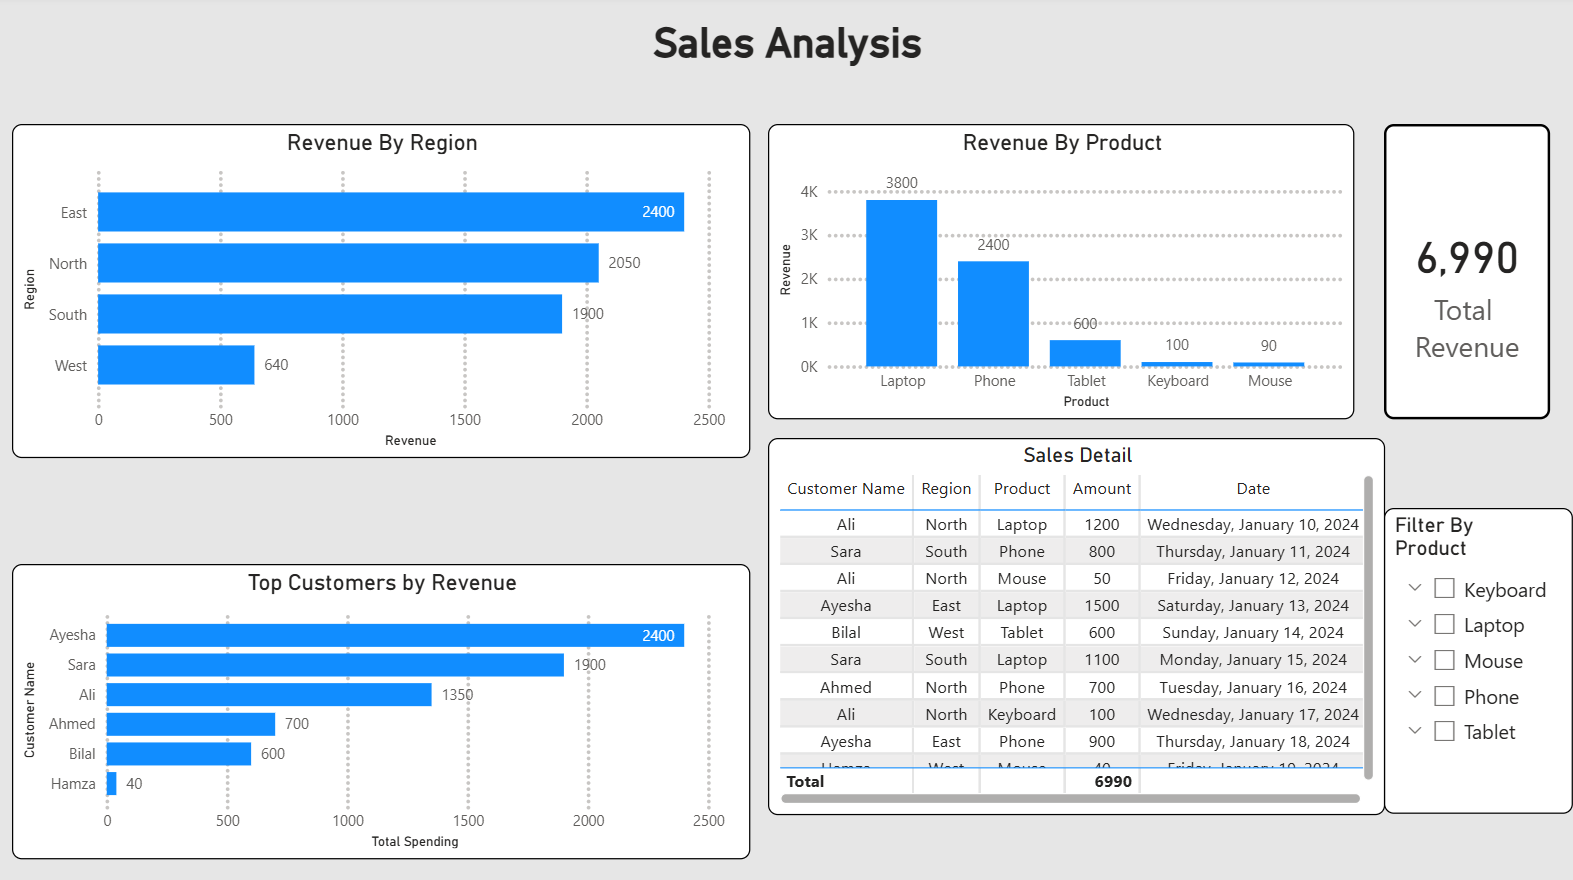

This screenshot's page, from the dashboard's own definition file:
{"tool":"powerbi","page":{"name":"Page 1","canvas":[1280,720],"ordinal":0},"visuals":[{"type":"card","fields":{"Values":["Sum(Page 1.amount)"]},"box":[1126.7,105,135,240],"z":0},{"type":"textbox","box":[522.6,15.1,236.7,54.9],"z":1000},{"type":"clusteredBarChart","title":"Revenue By Region","fields":{"Y":["Sum(Page 1.amount)"],"Category":["Page 1.region"]},"box":[11.7,105,600,271.7],"z":2000},{"type":"clusteredBarChart","title":"Top Customers by Revenue","fields":{"Category":["Page 1.customer_name"],"Y":["Sum(Page 1.amount)"]},"box":[11.7,463.3,600,240],"z":3000},{"type":"clusteredColumnChart","title":"Revenue By Product","fields":{"Category":["Page 1.product"],"Y":["Sum(Page 1.amount)"]},"box":[625,105,476.7,240],"z":4000},{"type":"tableEx","title":"Sales Detail","fields":{"Values":["Page 1.customer_name","Page 1.region","Page 1.product","Sum(Page 1.amount)","Page 1.date"]},"box":[625,360,501.7,306.7],"z":5000},{"type":"slicer","title":"Filter By Product","fields":{"Values":["Page 1.product","Page 1.region","Page 1.date"]},"box":[1126.7,418.3,153.3,248.3],"z":6000}]}

Visuals, with their boxes in screenshot pixels (x1, y1, x2, y2), scaled from the page's 1280x720 canvas onto the 1573x880 screenshot:
card - Sum(Page 1.amount): (x1=1385, y1=128, x2=1551, y2=422)
textbox: (x1=642, y1=18, x2=933, y2=86)
"Revenue By Region" clusteredBarChart: (x1=14, y1=128, x2=752, y2=460)
"Top Customers by Revenue" clusteredBarChart: (x1=14, y1=566, x2=752, y2=860)
"Revenue By Product" clusteredColumnChart: (x1=768, y1=128, x2=1354, y2=422)
"Sales Detail" tableEx: (x1=768, y1=440, x2=1385, y2=815)
"Filter By Product" slicer: (x1=1385, y1=511, x2=1572, y2=815)
